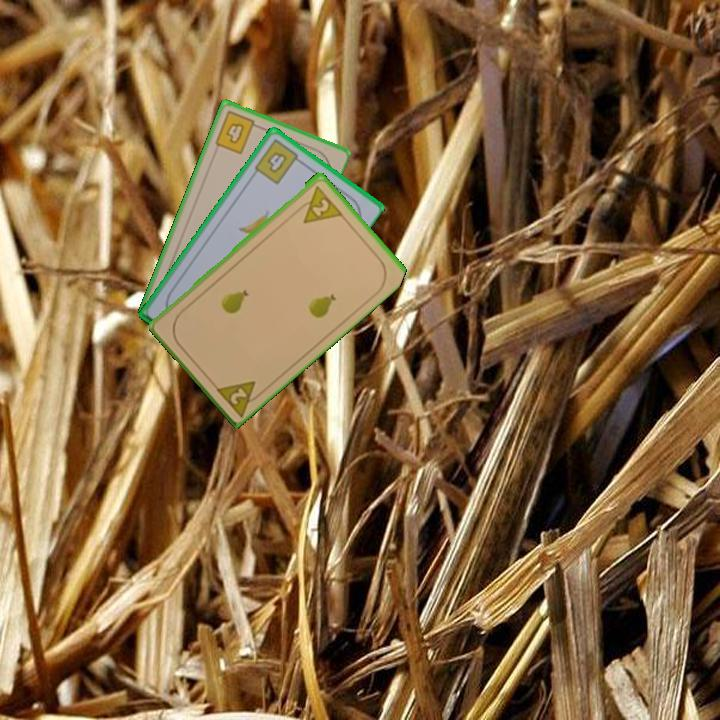2p: (211, 376, 267, 419), (292, 181, 344, 226)
4b: (250, 135, 305, 187), (211, 107, 264, 157)
